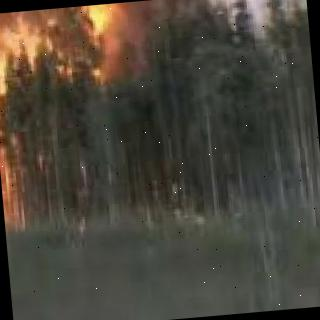fire: (0, 12, 32, 230), (65, 1, 140, 86)
